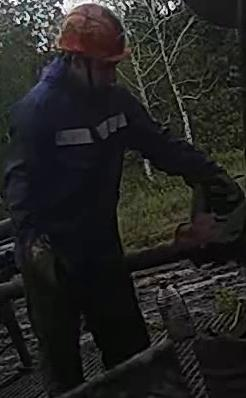gloves: (15, 234, 73, 301), (191, 174, 244, 219)
helmet: (56, 2, 131, 62)
vest: (3, 82, 139, 286)
